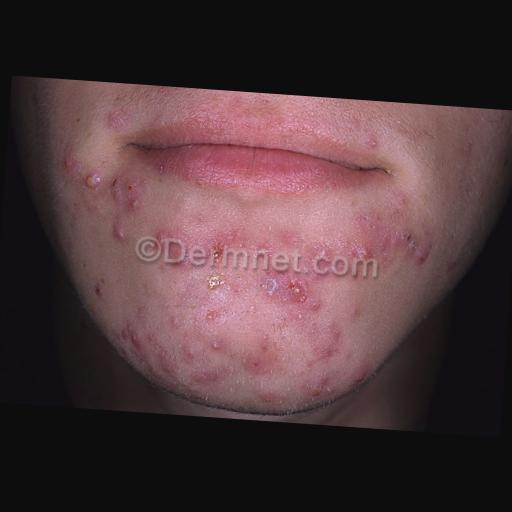Skin_Lesion: (114, 322, 144, 354), (301, 376, 335, 400), (396, 232, 424, 254), (359, 207, 381, 233), (204, 244, 228, 266), (108, 110, 128, 136), (257, 273, 277, 299), (349, 365, 369, 390), (155, 348, 174, 374), (358, 242, 378, 266), (56, 157, 78, 178), (106, 178, 126, 200), (192, 368, 216, 386), (132, 302, 152, 322), (326, 325, 345, 345), (248, 358, 268, 377), (262, 390, 280, 410), (286, 284, 304, 302), (183, 345, 201, 363), (256, 335, 272, 355), (154, 229, 170, 248), (360, 135, 380, 150), (204, 308, 222, 324), (205, 272, 223, 288), (110, 226, 130, 240), (81, 172, 97, 188), (314, 246, 329, 263), (230, 234, 248, 248), (209, 338, 224, 353), (309, 300, 322, 317), (87, 288, 105, 300), (258, 244, 272, 259), (156, 160, 170, 175), (128, 196, 141, 211), (147, 328, 159, 342), (193, 392, 207, 403), (290, 232, 300, 247), (168, 319, 180, 326), (397, 194, 406, 202)
